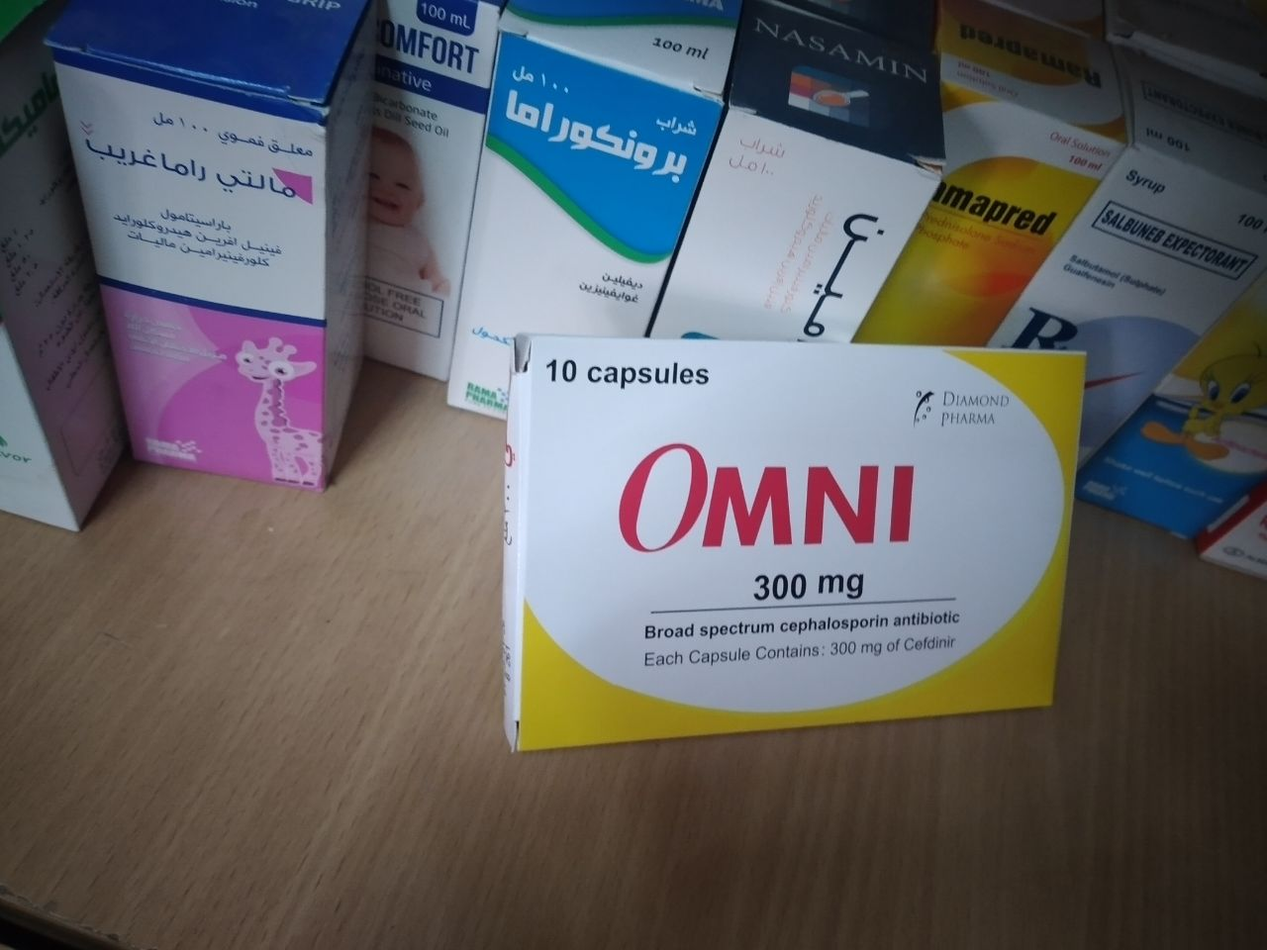Medicine: (478, 314, 1089, 764), (49, 0, 366, 515), (443, 7, 715, 416), (658, 7, 935, 354), (851, 2, 1101, 334), (334, 0, 500, 393), (1020, 87, 1247, 364)
